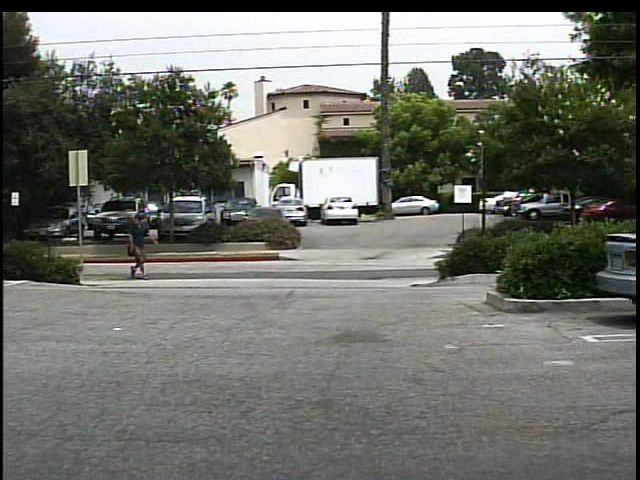person: (123, 209, 157, 280)
